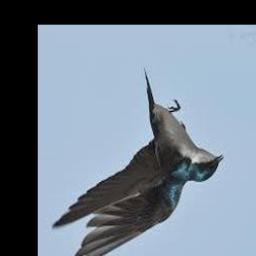Swallow: (52, 69, 222, 256)
